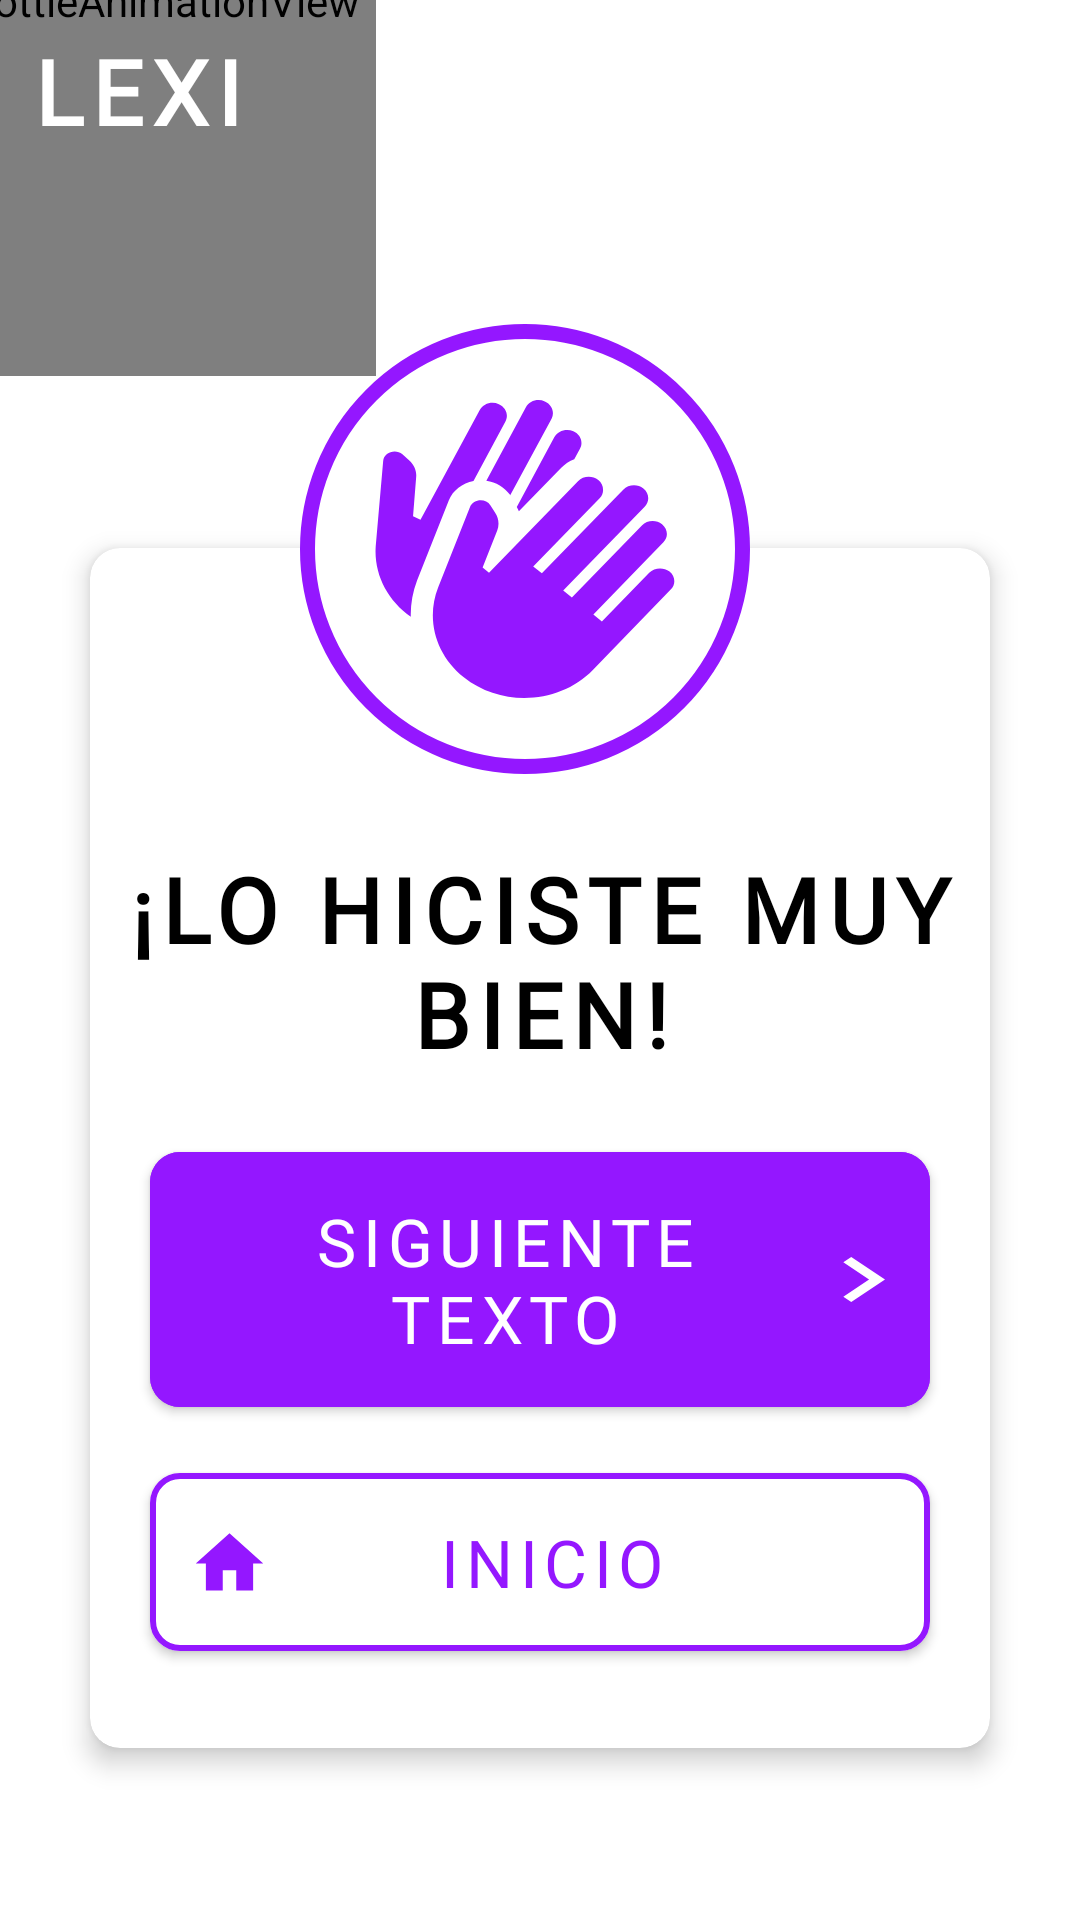

Icon click points for this 1080×1920 phone screenshot, format (x=x, y=y):
claps: (x=525, y=549)
